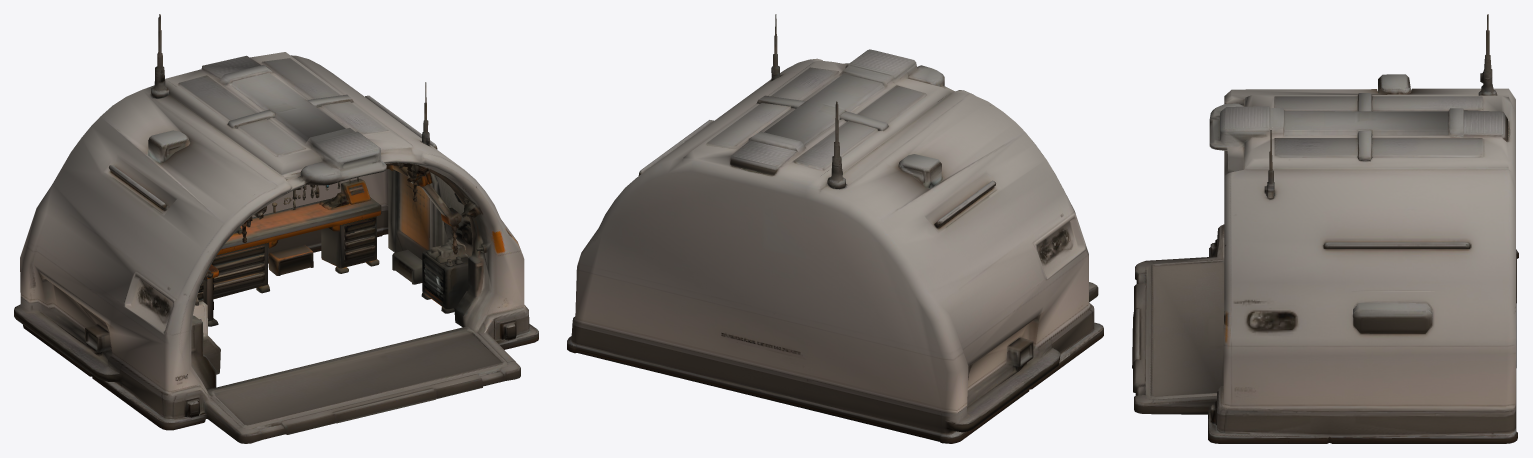
Rendered from repair-bay.glb.
3 renders of one model, left to right at view 1: azimuth 30°, elevation 25°; view 2: azimuth 150°, elevation 25°; view 3: azimuth 270°, elevation 25°, orthographic. The views are drawn at different scales.
Visible parts, largest first — view 1: tripo_node_fa4d759a-b955-4038-b609-266941ac7434; view 2: tripo_node_fa4d759a-b955-4038-b609-266941ac7434; view 3: tripo_node_fa4d759a-b955-4038-b609-266941ac7434.
Boxes of the visible parts, x1,y1,x2,y2 form: tripo_node_fa4d759a-b955-4038-b609-266941ac7434: (14, 14, 538, 443); tripo_node_fa4d759a-b955-4038-b609-266941ac7434: (567, 14, 1103, 443); tripo_node_fa4d759a-b955-4038-b609-266941ac7434: (1132, 14, 1518, 443).
Bounding box in the file's own units: 0.998 × 0.7129 × 0.8262.
1 material, 1 textured.
